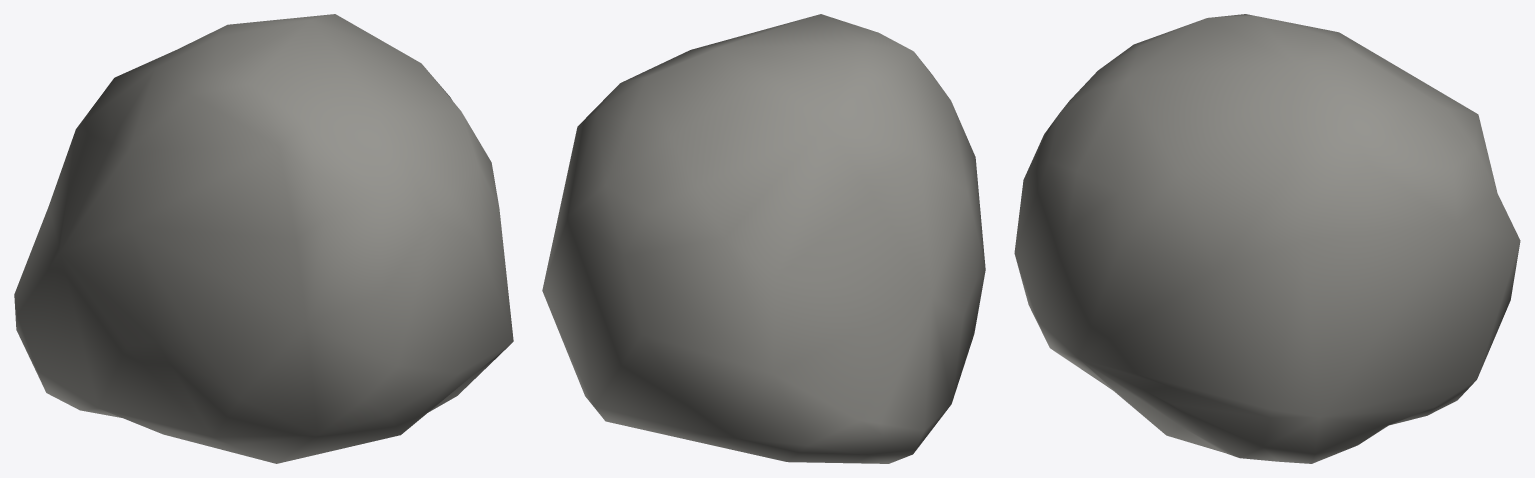
Rendered from Sm_Rocks10L.fbx.
The picture shows the model from 3 angles, left to right: view 1: azimuth 30°, elevation 25°; view 2: azimuth 150°, elevation 25°; view 3: azimuth 270°, elevation 25°; orthographic projection. The views are drawn at different scales.
Parts seen in each view (by area): view 1: Sm_Rocks10L; view 2: Sm_Rocks10L; view 3: Sm_Rocks10L.
Boxes of the visible parts, x1,y1,x2,y2 form: Sm_Rocks10L: [14, 14, 513, 463]; Sm_Rocks10L: [542, 14, 985, 463]; Sm_Rocks10L: [1014, 14, 1520, 463].
Bounding box in the file's own units: 148 × 123 × 162.
